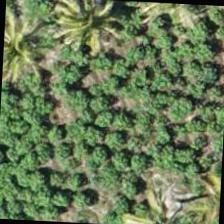Kelapa_Sawit: (44, 0, 138, 67), (0, 14, 62, 107), (125, 177, 219, 223)
